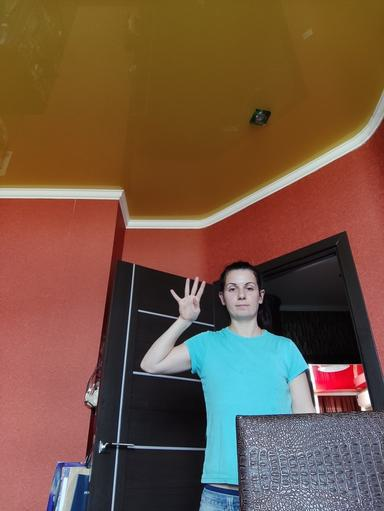four: (169, 276, 207, 322)
